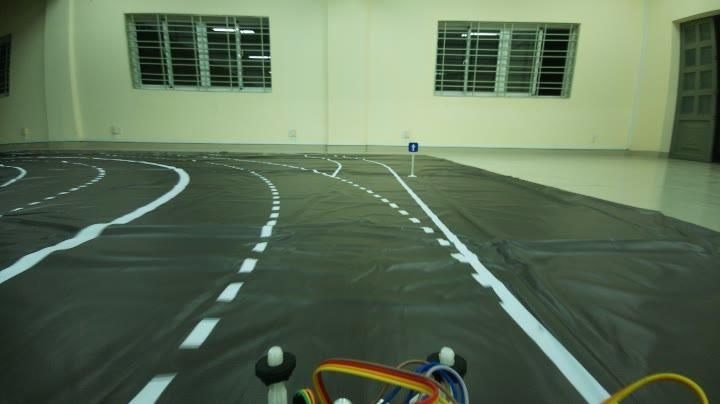onewayroad: (406, 142, 421, 156)
